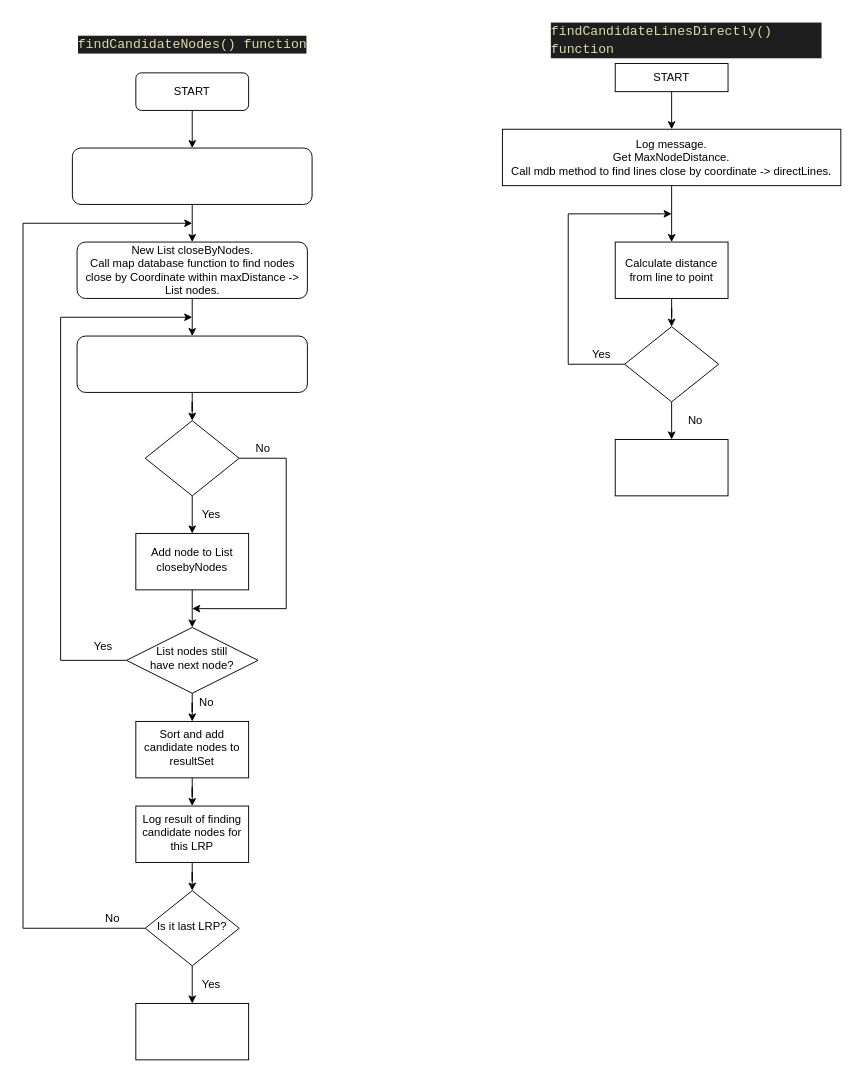
Some shapes in this 857 by 1076 pixel diagram are drawn without their labels. Each missing label, with the box of its shape:
Calculate distance between 2 nodes in List nodes.: (76, 335, 307, 392)
distance < maxDistance: (144, 420, 239, 496)
distance > maxDistance: (624, 326, 719, 402)
Read maximum node distance -> maxDistance. Get raw LRPs.: (71, 147, 312, 204)
Return resultSet: (135, 1003, 249, 1060)
